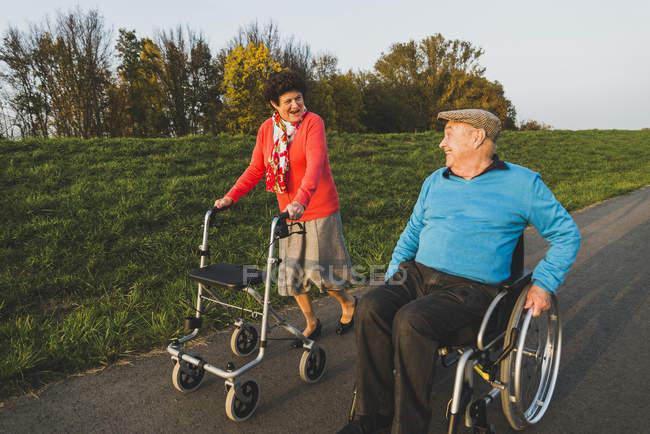walking_frame: (166, 70, 362, 422)
wheelchair: (337, 109, 583, 434)
